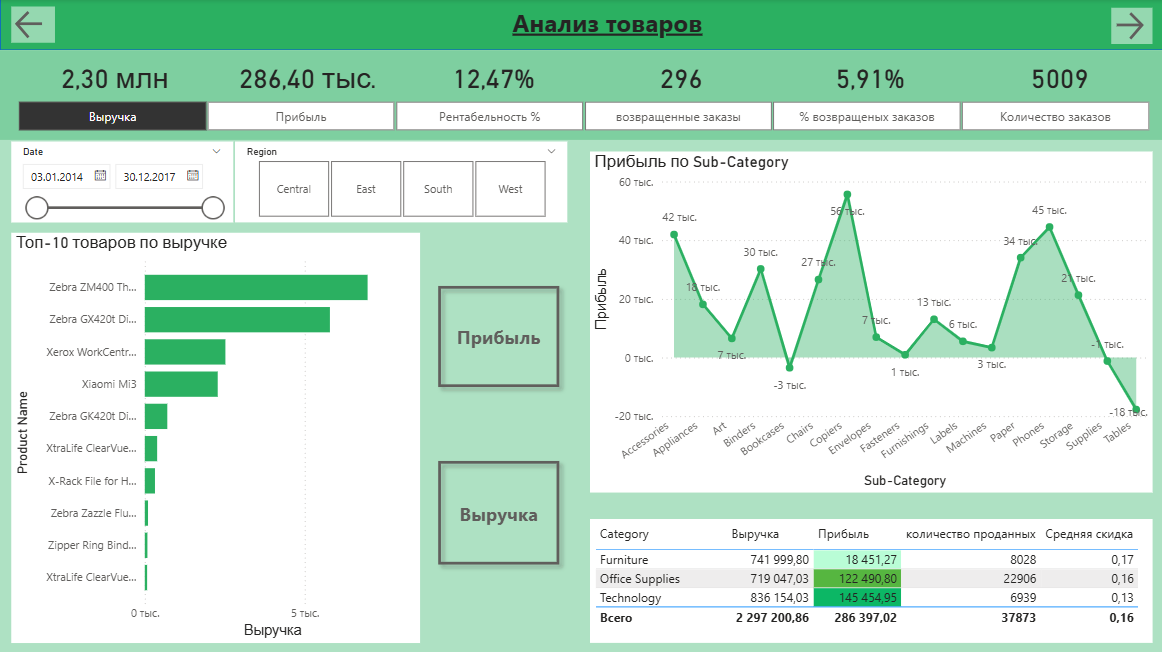

What the dashboard file says about the page in this screenshot:
{"tool":"powerbi","page":{"name":"Анализ товаров","canvas":[1280,720],"ordinal":2},"visuals":[{"type":"shape","box":[0,0,1280.3,56.3],"z":0},{"type":"shape","box":[0,56.3,1280.3,98.8],"z":1000},{"type":"slicer","fields":{"Values":["Параметр 2.Параметр"]},"box":[0,105.7,1280.3,45.3],"z":2000},{"type":"card","fields":{"Values":["меры.Выручка"]},"box":[50.8,67.2,150.9,38.4],"z":3000},{"type":"card","fields":{"Values":["меры.Рентабельность продаж %"]},"box":[461.1,67.2,161.9,38.4],"z":4000},{"type":"card","fields":{"Values":["меры.возвращенные заказы"]},"box":[666.9,67.2,161.9,38.4],"z":5000},{"type":"card","fields":{"Values":["меры.% возвращеных заказов"]},"box":[874.1,67.2,161.9,38.4],"z":6000},{"type":"card","fields":{"Values":["меры.Количество заказов"]},"box":[1077.2,67.2,171.5,38.4],"z":7000},{"type":"card","fields":{"Values":["меры.Прибыль"]},"box":[255.2,67.2,164.7,38.4],"z":8000},{"type":"slicer","fields":{"Values":["Calendar.Date"]},"box":[12.3,156.4,242.9,89.2],"z":9000},{"type":"slicer","fields":{"Values":["Orders.Region"]},"box":[258,156.4,365,89.2],"z":10000},{"type":"actionButton","box":[472,498.1,150.9,131.7],"z":11000},{"type":"actionButton","box":[472,306,150.9,129],"z":12000},{"type":"barChart","title":"Топ-10 товаров по выручке","fields":{"Category":["Orders.Product Name"],"Y":["меры.Выручка"]},"box":[12.3,256.6,448.7,450.1],"z":13000},{"type":"lineChart","fields":{"Category":["Orders.Sub-Category"],"Y":["меры.Прибыль"]},"box":[647.7,167.4,617.5,374.6],"z":15000},{"type":"tableEx","fields":{"Values":["Orders.Category","меры.Выручка","меры.Прибыль","Sum(Orders.Quantity)","Avg(Orders.Discount)"]},"box":[647.7,570.8,617.5,135.8],"z":16000},{"type":"actionButton","box":[12.3,8.2,48,39.8],"z":17000},{"type":"actionButton","box":[1219.9,9.6,45.3,39.8],"z":18000},{"type":"textbox","box":[517.3,2.7,299.1,54.9],"z":19000}]}

Visuals, with their boxes in screenshot pixels (x1, y1, x2, y2), scaled from the page's 1280x720 canvas onto the 1162x652 screenshot:
shape: region(0, 0, 1161, 51)
shape: region(0, 51, 1161, 140)
slicer - Параметр 2.Параметр: region(0, 96, 1161, 137)
card - меры.Выручка: region(46, 61, 183, 96)
card - меры.Рентабельность продаж %: region(419, 61, 566, 96)
card - меры.возвращенные заказы: region(605, 61, 752, 96)
card - меры.% возвращеных заказов: region(794, 61, 940, 96)
card - меры.Количество заказов: region(978, 61, 1134, 96)
card - меры.Прибыль: region(232, 61, 381, 96)
slicer - Calendar.Date: region(11, 142, 232, 222)
slicer - Orders.Region: region(234, 142, 566, 222)
actionButton: region(428, 451, 565, 570)
actionButton: region(428, 277, 565, 394)
"Топ-10 товаров по выручке" barChart: region(11, 232, 419, 640)
lineChart - Orders.Sub-Category x меры.Прибыль: region(588, 152, 1149, 491)
tableEx - Orders.Category x меры.Выручка: region(588, 517, 1149, 640)
actionButton: region(11, 7, 55, 43)
actionButton: region(1107, 9, 1149, 45)
textbox: region(470, 2, 741, 52)
